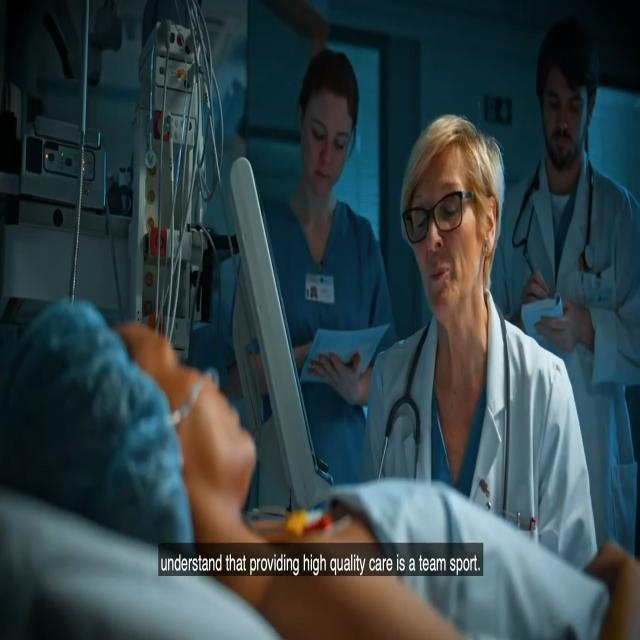Doctor: (383, 118, 517, 457), (517, 0, 640, 344)
Nurse: (265, 43, 381, 314)
Patient: (0, 255, 290, 640)
